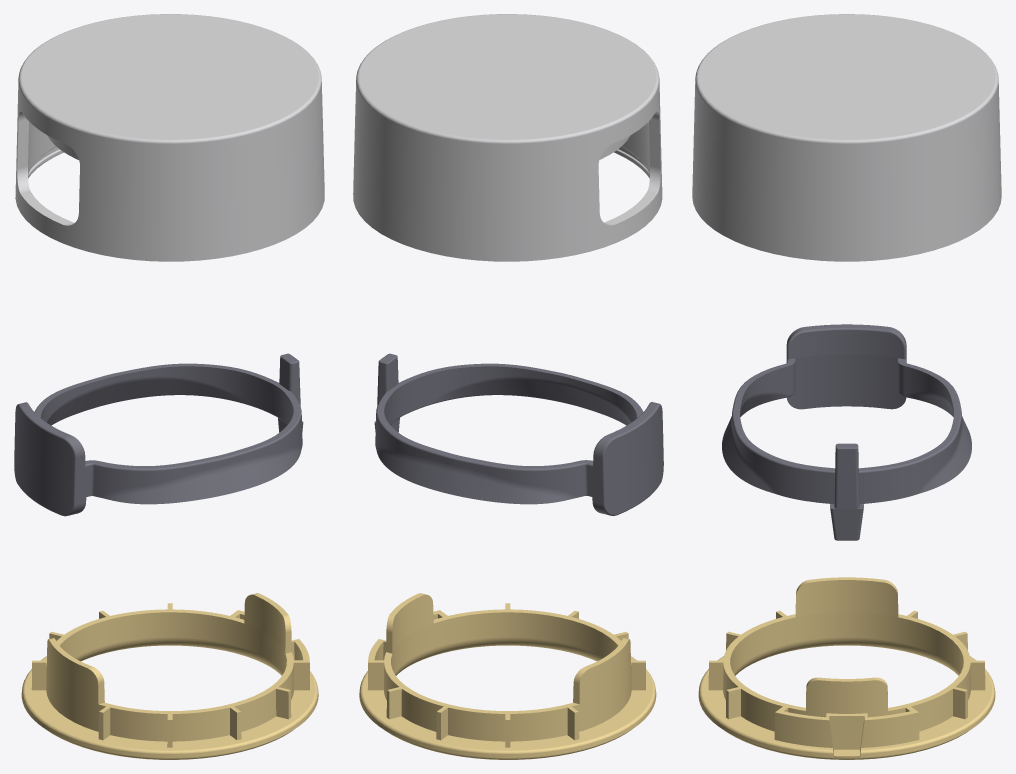
File: exploded.glb
The picture shows the model from 3 angles, left to right: view 1: azimuth 30°, elevation 25°; view 2: azimuth 150°, elevation 25°; view 3: azimuth 270°, elevation 25°; orthographic projection.
Size of the model in its own units: 0.0475 by 0.1044 by 0.047.
